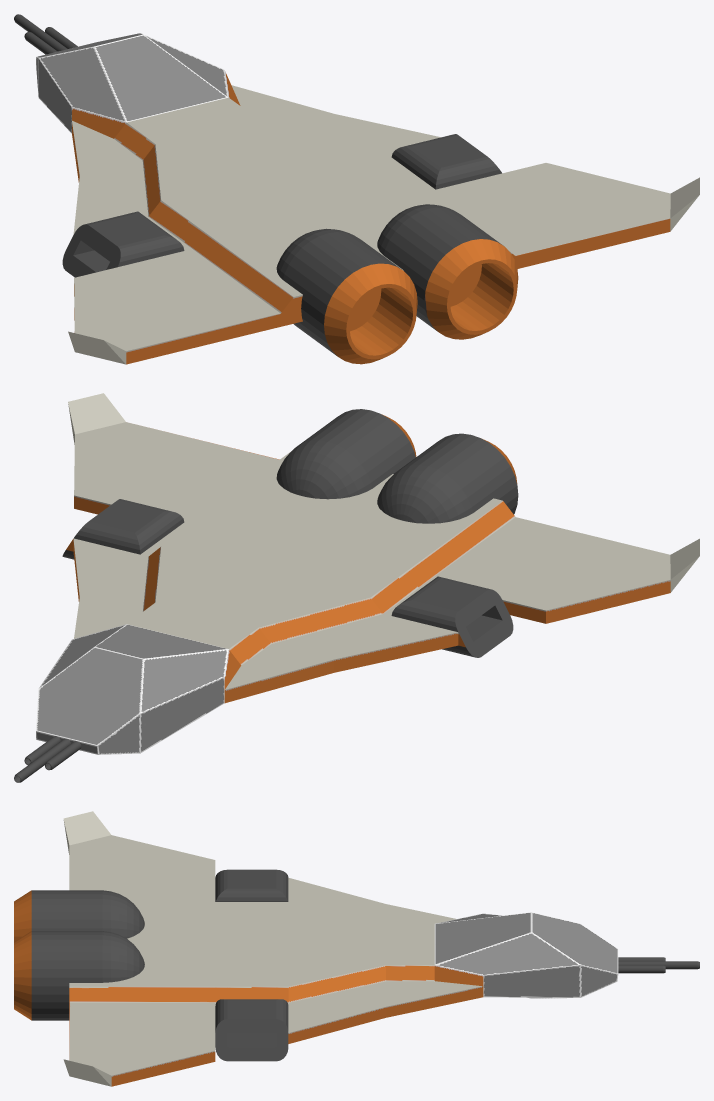
File: Spaceship.fbx
3 views of the same model, one above another, from view 1: azimuth 30°, elevation 25°; view 2: azimuth 150°, elevation 25°; view 3: azimuth 270°, elevation 25° (orthographic). The views are drawn at different scales.
Parts seen in each view (by area): view 1: Plane; view 2: Plane; view 3: Plane.
Boxes of the visible parts, bbox=[...] form: Plane: bbox=[14, 14, 699, 364]; Plane: bbox=[14, 393, 699, 782]; Plane: bbox=[14, 811, 699, 1086].
Size of the model in its own units: 248 by 36.84 by 282.
